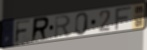0: (75, 12, 90, 36)
2: (98, 9, 112, 33)
F: (114, 5, 133, 32), (14, 18, 33, 45)
R: (30, 16, 51, 43), (54, 14, 72, 40)
